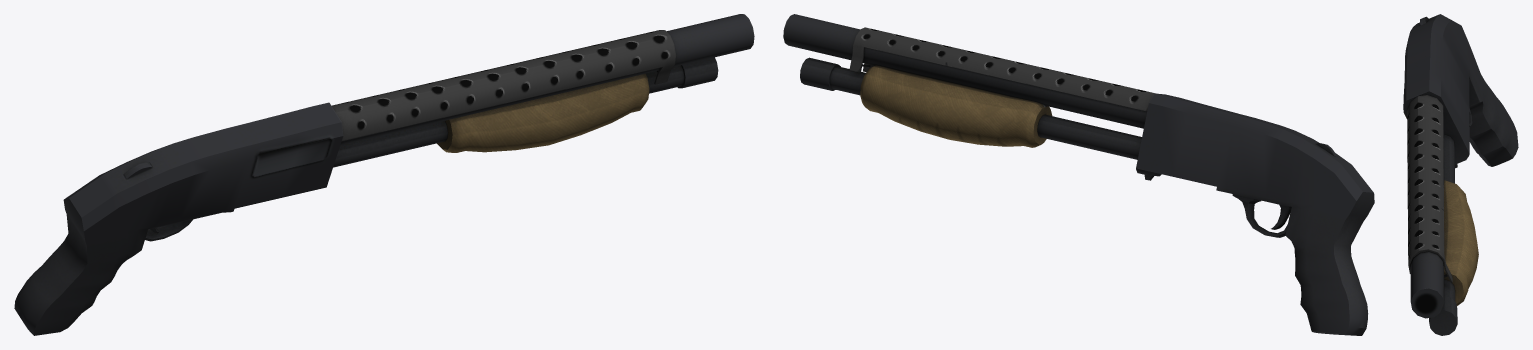
The model's file is shotgun_000028.obj.
3 views of the same model, side by side, from view 1: azimuth 30°, elevation 25°; view 2: azimuth 150°, elevation 25°; view 3: azimuth 270°, elevation 25° (orthographic). The views are drawn at different scales.
Parts seen in each view (by area): view 1: mesh_Cube.001; view 2: mesh_Cube.001; view 3: mesh_Cube.001.
Part boxes in pixels (x1,y1,x2,y2): mesh_Cube.001: (14,14,754,335); mesh_Cube.001: (783,14,1374,335); mesh_Cube.001: (1403,14,1518,335).
Size of the model in its own units: 1.89 by 0.5089 by 0.2995.
Materials: 1 (1 with a texture image).
